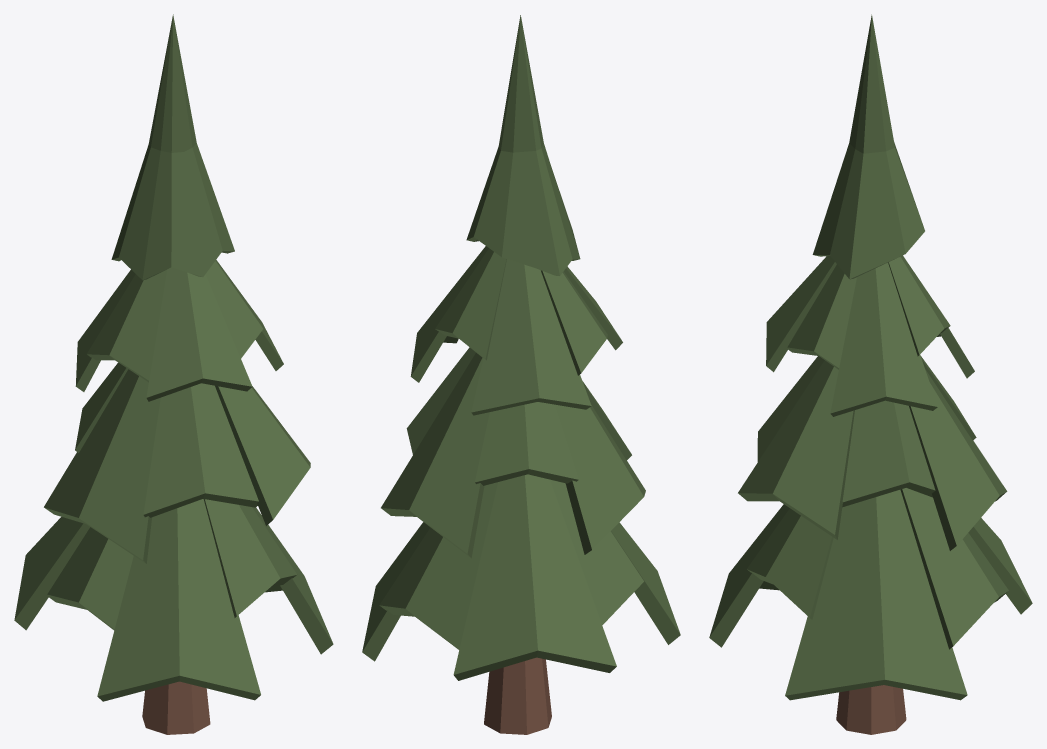
The model's file is SM_Tree_01.fbx.
3 views of the same model, side by side, from view 1: azimuth 30°, elevation 25°; view 2: azimuth 150°, elevation 25°; view 3: azimuth 270°, elevation 25° (orthographic).
Parts seen in each view (by area): view 1: SM_Tree_01; view 2: SM_Tree_01; view 3: SM_Tree_01.
Boxes of the visible parts, box(x1,y1,x2,y2) form: SM_Tree_01: box(14, 14, 333, 734); SM_Tree_01: box(362, 15, 680, 734); SM_Tree_01: box(709, 14, 1032, 734).
Bounding box in the file's own units: 3.82 × 9.71 × 4.04.
